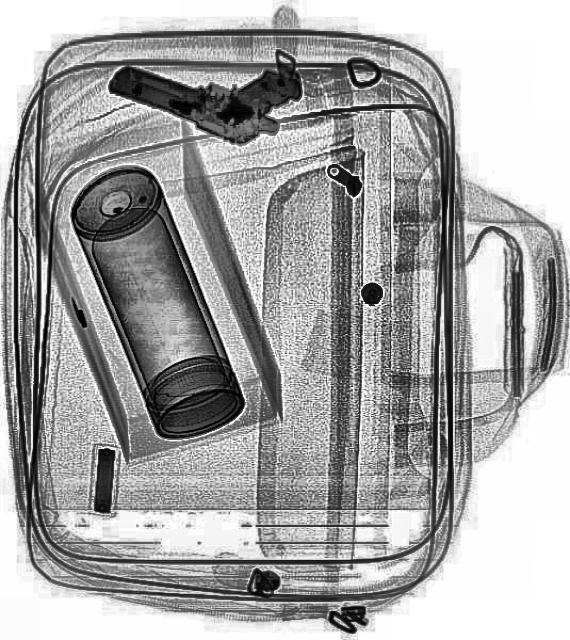Gun: (105, 22, 306, 158)
